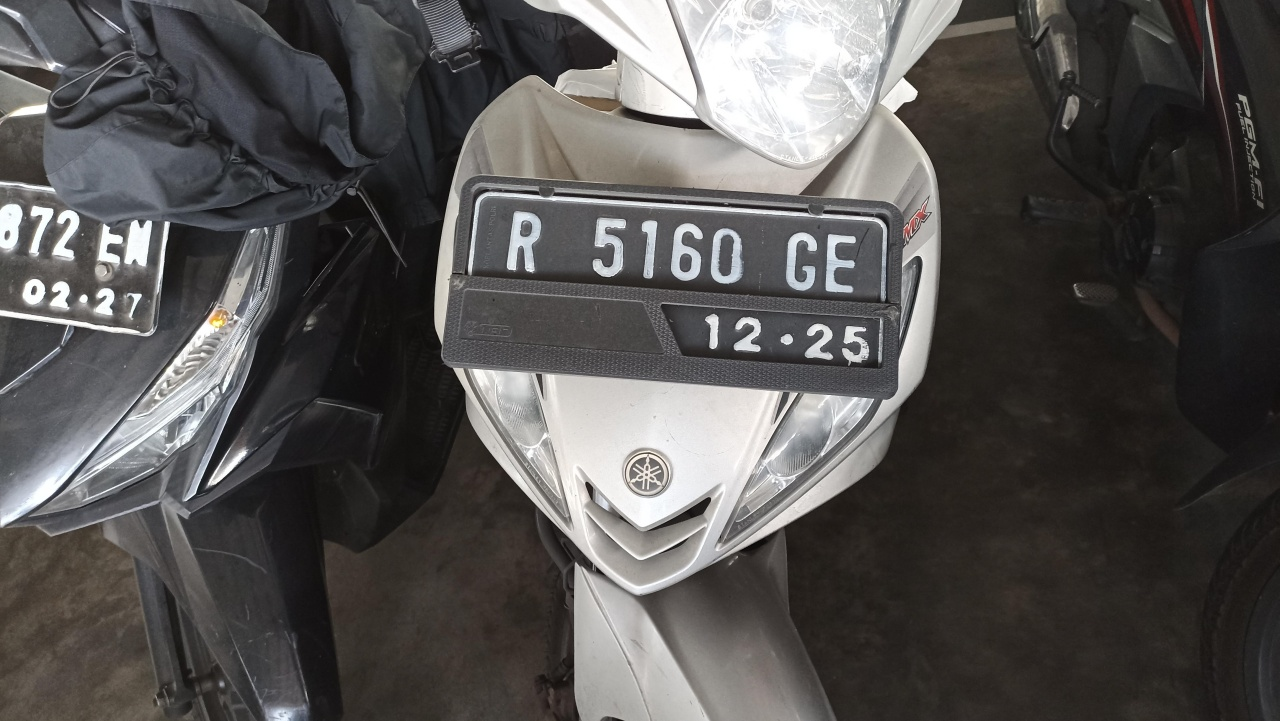plate: (450, 180, 896, 389)
